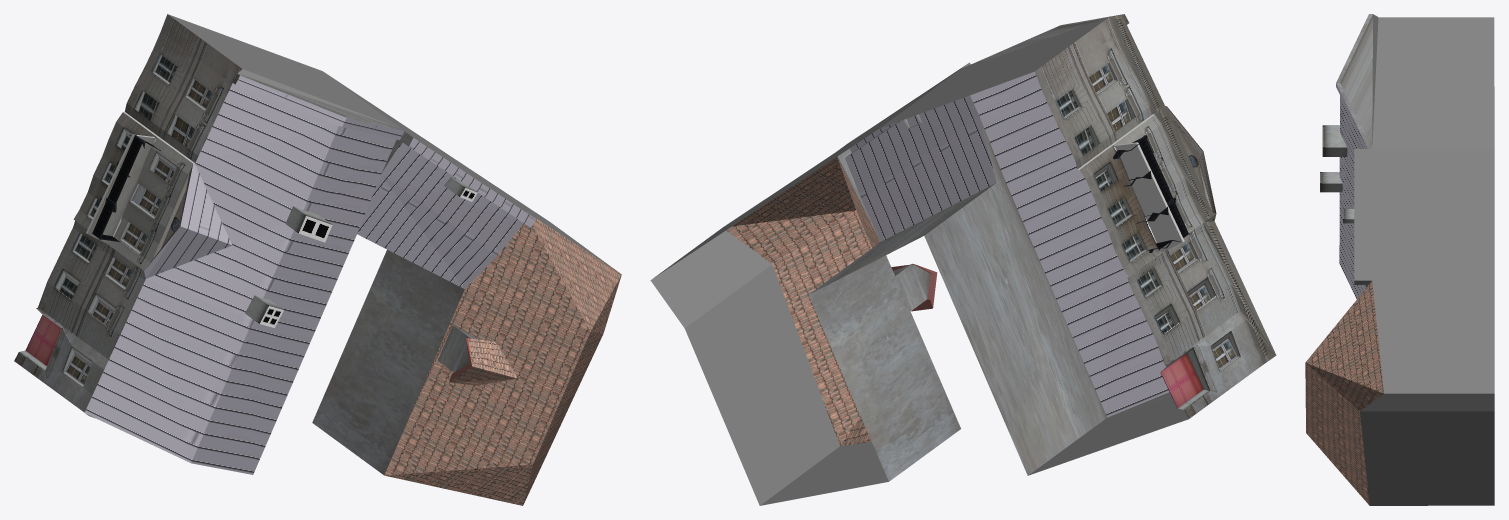
Rendered from L22-origo.obj.
3 views of the same model, side by side, from view 1: azimuth 30°, elevation 25°; view 2: azimuth 150°, elevation 25°; view 3: azimuth 270°, elevation 25° (orthographic). The views are drawn at different scales.
Visible parts, largest first — view 1: L22; view 2: L22; view 3: L22.
Boxes of the visible parts, x1,y1,x2,y2 form: L22: [14, 14, 621, 505]; L22: [650, 14, 1276, 505]; L22: [1305, 14, 1494, 505].
Bounding box in the file's own units: 35.94 × 31.5 × 14.03.
